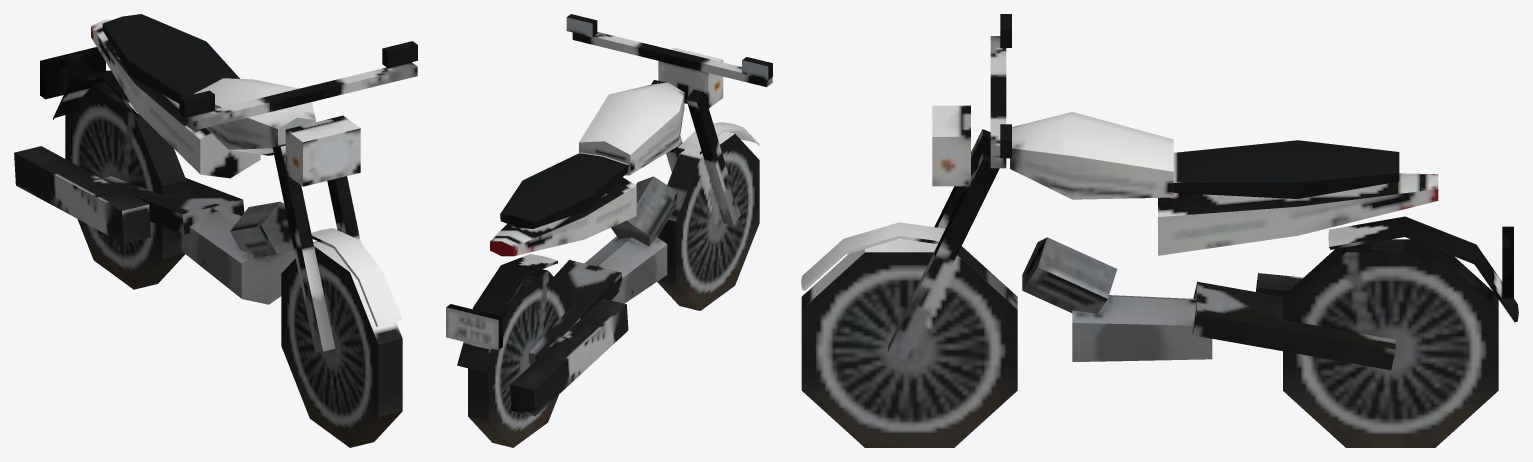
Rendered from motorbike_lod.glb.
3 views of the same model, side by side, from view 1: azimuth 30°, elevation 25°; view 2: azimuth 150°, elevation 25°; view 3: azimuth 270°, elevation 25° (orthographic). The views are drawn at different scales.
Visible parts, largest first — view 1: motorbike_lod; view 2: motorbike_lod; view 3: motorbike_lod.
Part boxes in pixels (x1,y1,x2,y2): motorbike_lod: [14, 14, 417, 447]; motorbike_lod: [446, 14, 772, 447]; motorbike_lod: [801, 14, 1518, 447].
Bounding box in the file's own units: 0.77 × 1.03 × 1.84.
Materials: 1 (1 with a texture image).
